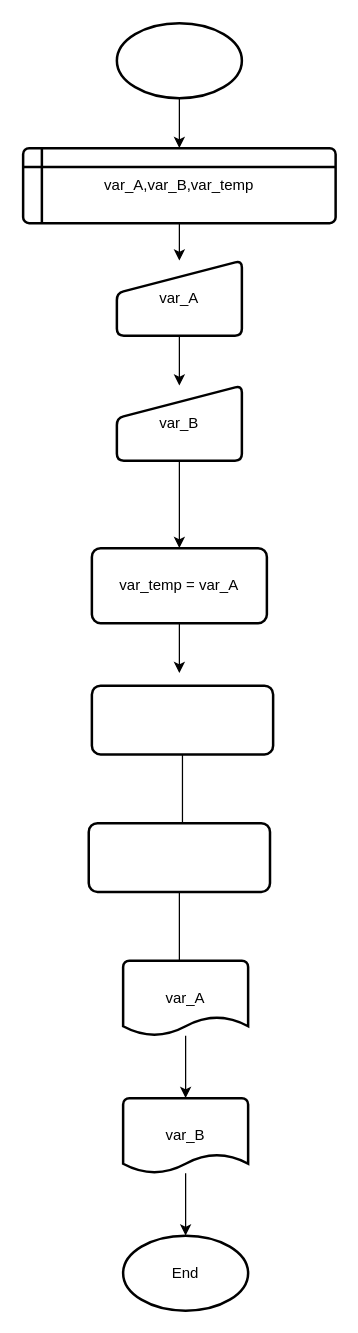
Image size: 358x1333. Some labels were removed from this diagram. The centre of each missing label's shape, as x and y in pixels:
"start" belongs at pixel 178 60.
"var_A = var_B" belongs at pixel 182 719.
"var_B = var_temp_" belongs at pixel 179 856.
